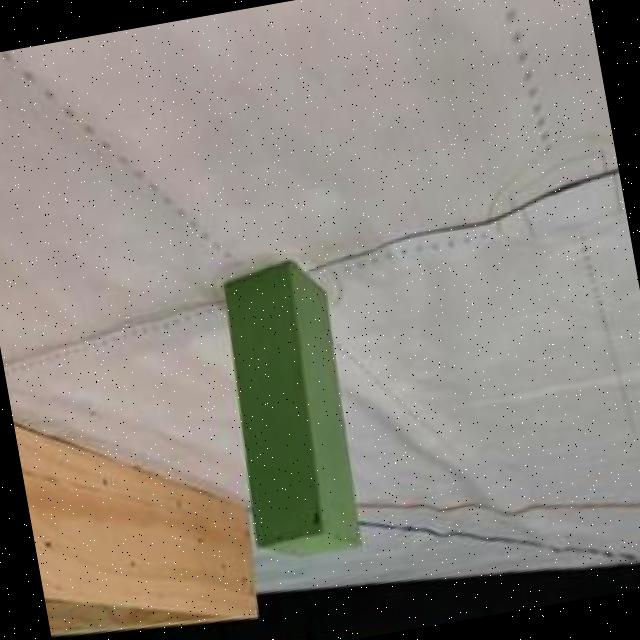greenbox: (208, 250, 372, 574)
